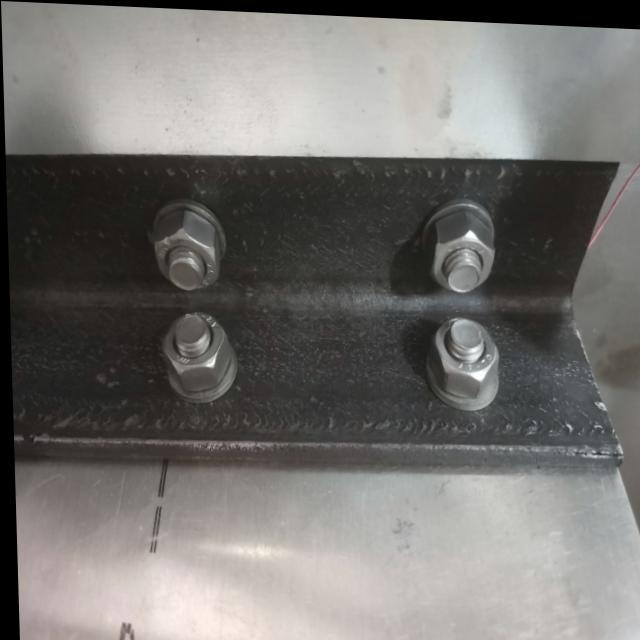Regular bolt: (423, 310, 497, 399), (158, 309, 232, 393), (423, 202, 493, 288), (150, 207, 219, 287)
